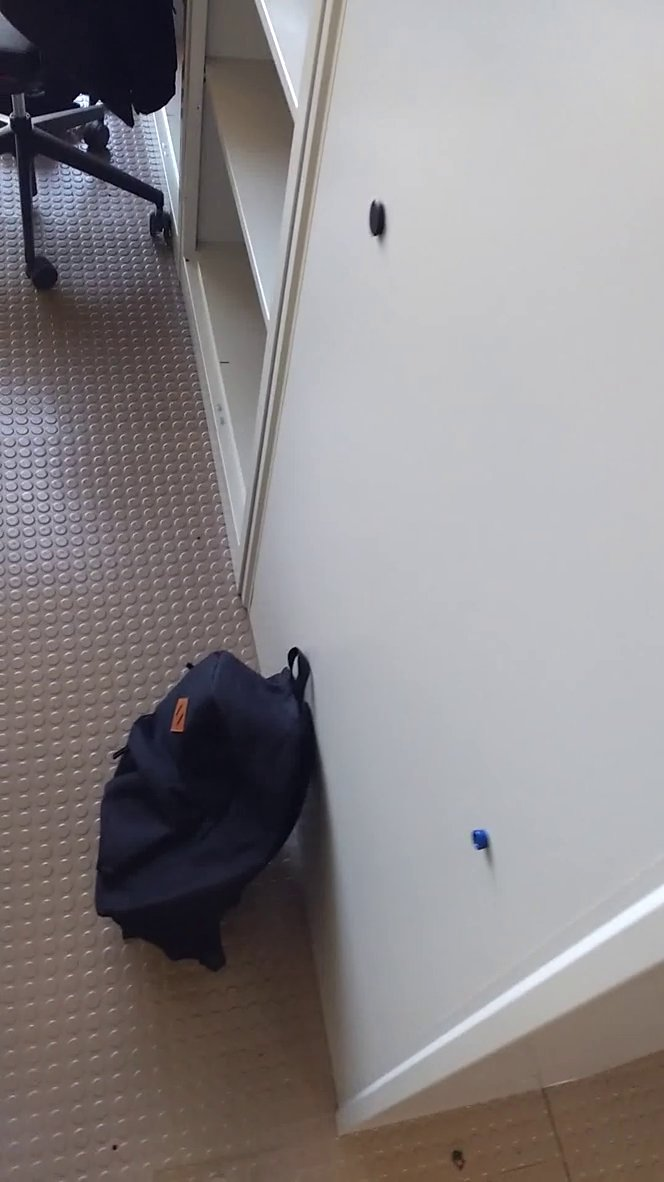bag: (79, 636, 348, 990)
